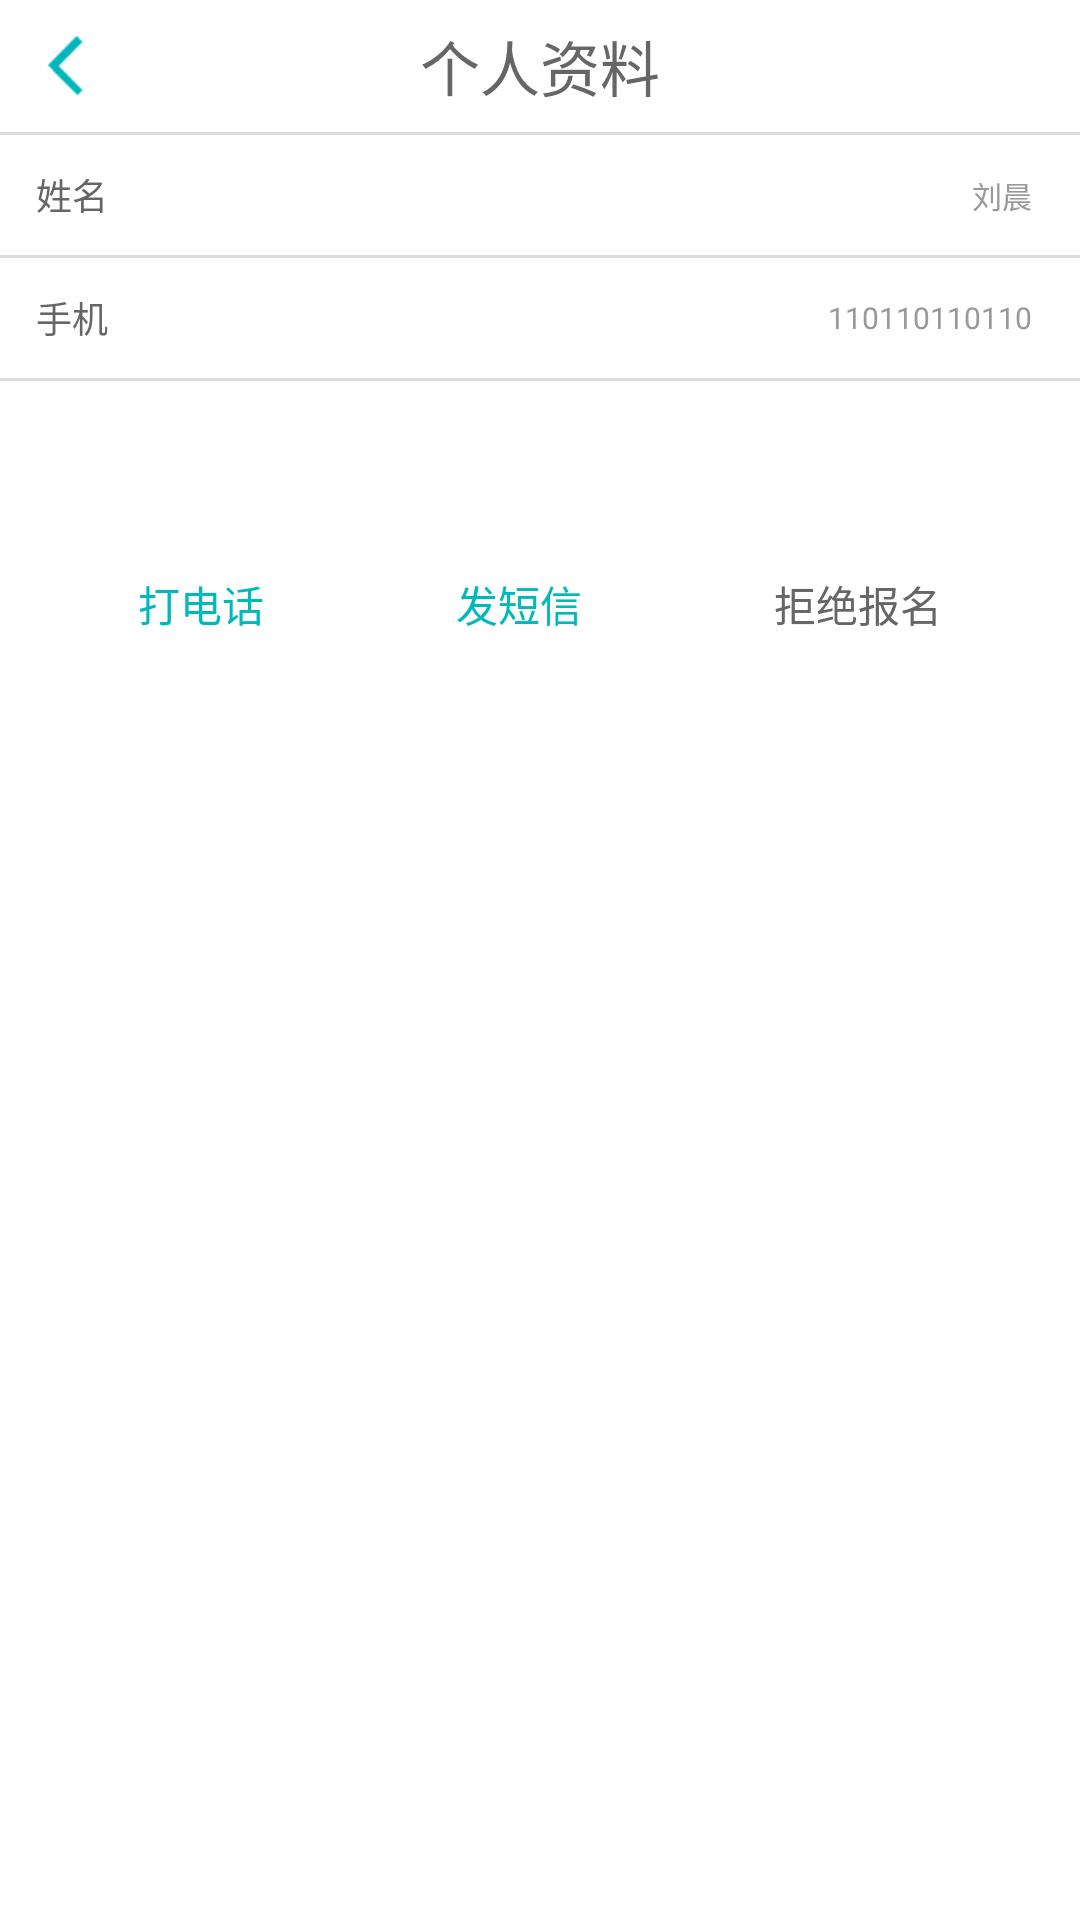

Icons on this 1080 × 1920 Android screen, each with the point to tap as (x,y):
location back: (65,66)
